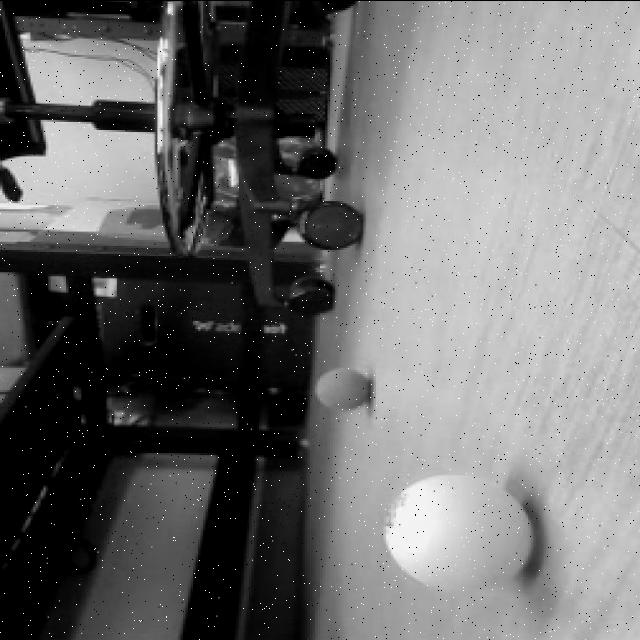ping-pong-ball: (377, 466, 532, 596), (307, 362, 375, 417)
